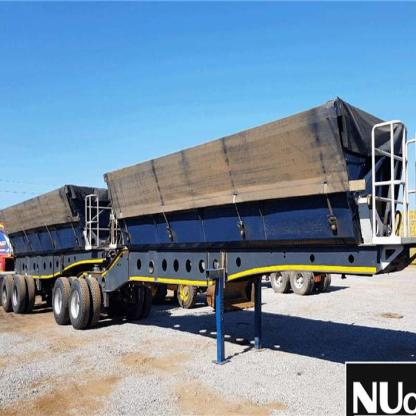dump_truck: (3, 95, 416, 364)
